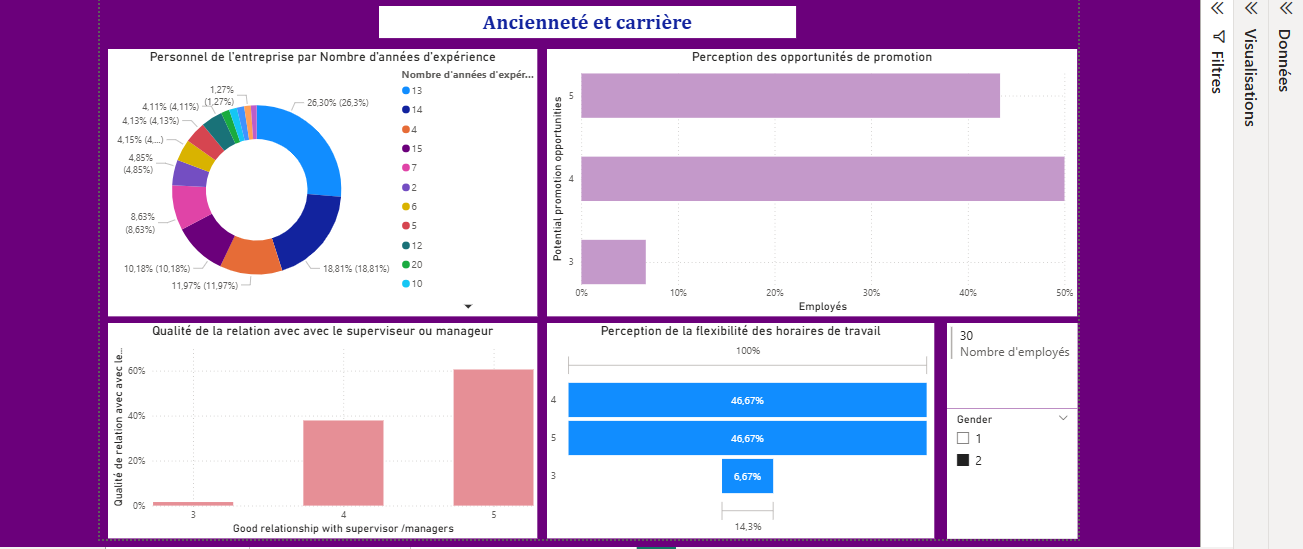

Layout of this report page (visuals, bound fields, positions):
{"tool":"powerbi","page":{"name":"Ancienneté et carrière","canvas":[1280,720],"ordinal":1},"visuals":[{"type":"textbox","box":[364.7,12.4,546.4,49.5],"z":0},{"type":"donutChart","fields":{"Category":["Table 1 (Rawdata).Experience"],"Y":["Divide(Sum(Table 1 (Rawdata).Employee number), ScopedEval(Sum(Table 1 (Rawdata).Employee number), []))"]},"box":[10.7,78.5,562.3,349.9],"z":1000},{"type":"clusteredBarChart","title":"Perception des opportunités de promotion","fields":{"Category":["Table 1 (Rawdata).Potential promotion opportunities "],"Y":["Divide(Count(Table 1 (Rawdata).Employee number), ScopedEval(Count(Table 1 (Rawdata).Employee number), []))"]},"box":[585.6,78.5,694.4,349.9],"z":2000},{"type":"columnChart","title":"Qualité de la relation avec avec le superviseur ou manageur","fields":{"Category":["Table 1 (Rawdata).Good relationship with supervisor /managers"],"Y":["Sum(Table 1 (Rawdata).Employee number)"]},"box":[10.7,437.4,562.3,282.1],"z":3000},{"type":"funnel","title":"Perception de la flexibilité des horaires de travail","fields":{"Category":["Table 1 (Rawdata).Flexible working hours"],"Y":["Divide(Count(Table 1 (Rawdata).Employee number), ScopedEval(Count(Table 1 (Rawdata).Employee number), []))"]},"box":[585.6,437.4,507,282.1],"z":4000},{"type":"multiRowCard","fields":{"Values":["Count(Table 1 (Rawdata).Employee number)"]},"box":[1108.6,437.4,171.4,112.5],"z":5000},{"type":"slicer","fields":{"Values":["Table 1 (Rawdata).Gender"]},"box":[1108.6,549.8,171.4,169.6],"z":6000}]}

Visuals, with their boxes in screenshot pixels (x1, y1, x2, y2):
textbox: bbox=(376, 3, 788, 40)
donutChart - Table 1 (Rawdata).Experience x Divide(Sum(Table 1 (Rawdata).Employee number), ScopedEval(Sum(Table 1 (Rawdata).Employee number), [])): bbox=(110, 52, 533, 316)
"Perception des opportunités de promotion" clusteredBarChart: bbox=(543, 52, 1066, 316)
"Qualité de la relation avec avec le superviseur ou manageur" columnChart: bbox=(110, 323, 533, 535)
"Perception de la flexibilité des horaires de travail" funnel: bbox=(543, 323, 924, 535)
multiRowCard - Count(Table 1 (Rawdata).Employee number): bbox=(936, 323, 1066, 407)
slicer - Table 1 (Rawdata).Gender: bbox=(936, 407, 1066, 535)
